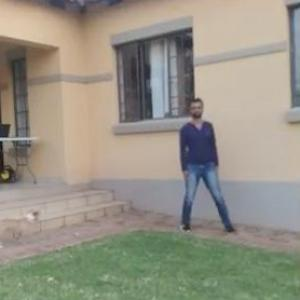follow: (167, 93, 210, 238)
